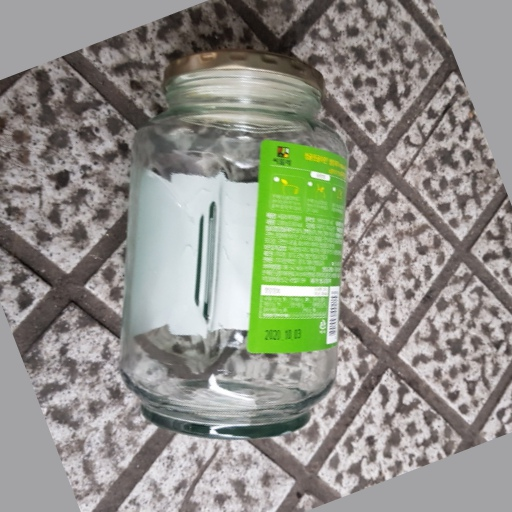Glass_5: (126, 51, 346, 434)
